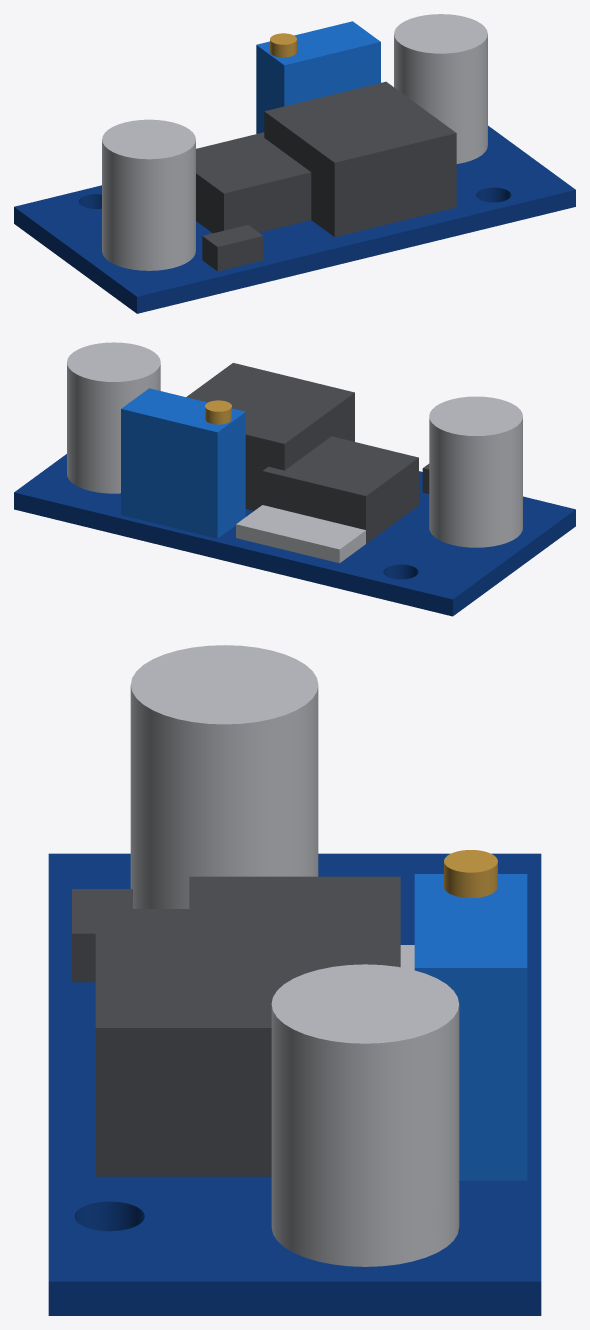
3 renders of one model, top to bottom at view 1: azimuth 30°, elevation 25°; view 2: azimuth 150°, elevation 25°; view 3: azimuth 270°, elevation 25°, orthographic. The views are drawn at different scales.
Parts seen in each view (by area): view 1: ci, pcb, caps, trimpot, ajuste; view 2: pcb, caps, ci, trimpot, aba, ajuste; view 3: caps, pcb, ci, trimpot, ajuste.
Part boxes in pixels (<box>): ci: <box>196,81,456,271</box>; pcb: <box>14,125,575,313</box>; caps: <box>102,14,487,270</box>; trimpot: <box>256,21,380,133</box>; ajuste: <box>270,33,296,57</box>; pcb: <box>14,454,575,616</box>; caps: <box>67,342,522,547</box>; ci: <box>186,363,429,543</box>; trimpot: <box>121,388,245,538</box>; aba: <box>236,505,365,563</box>; ajuste: <box>205,400,231,424</box>; caps: <box>130,645,459,1266</box>; pcb: <box>48,853,541,1315</box>; ci: <box>72,876,400,1176</box>; trimpot: <box>414,874,527,1180</box>; ajuste: <box>444,850,497,898</box>.
Bounding box in the file's own units: 43.2 × 12.8 × 21.
